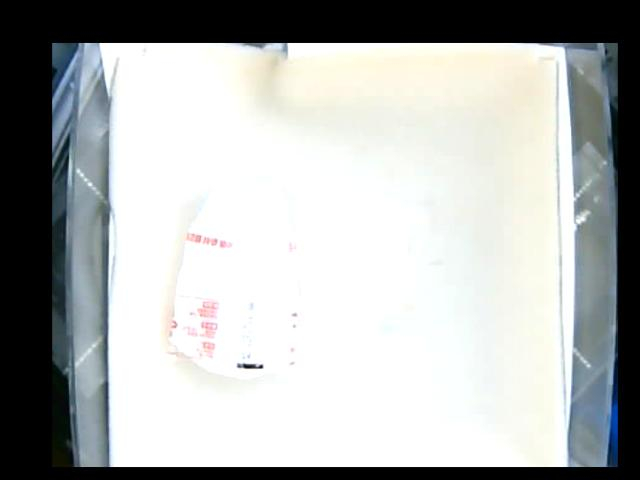Bottle: (167, 177, 303, 380)
